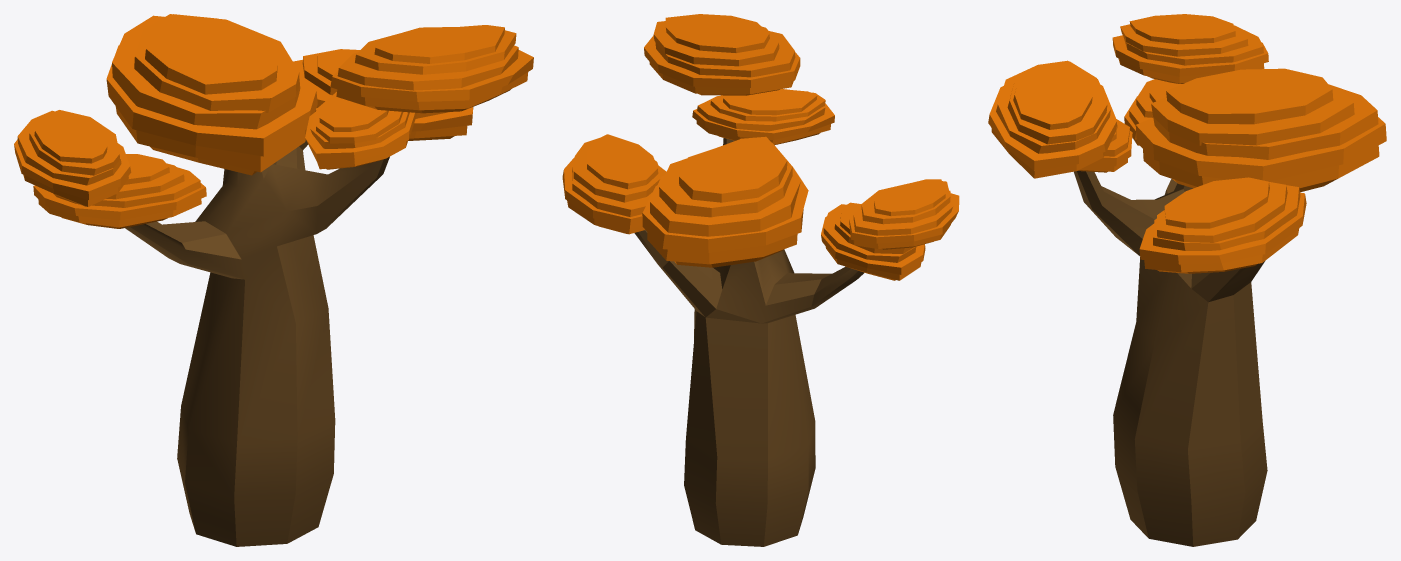
File: tree_deserd.glb
3 views of the same model, side by side, from view 1: azimuth 30°, elevation 25°; view 2: azimuth 150°, elevation 25°; view 3: azimuth 270°, elevation 25° (orthographic). The views are drawn at different scales.
Visible parts, largest first — view 1: tree_desert; view 2: tree_desert; view 3: tree_desert.
Boxes of the visible parts, x1=… form: tree_desert: x1=14, y1=14, x2=533, y2=546; tree_desert: x1=562, y1=14, x2=959, y2=546; tree_desert: x1=988, y1=14, x2=1386, y2=546.
Bounding box in the file's own units: 4.74 × 5.22 × 3.91.
Materials: 1 (1 with a texture image).
